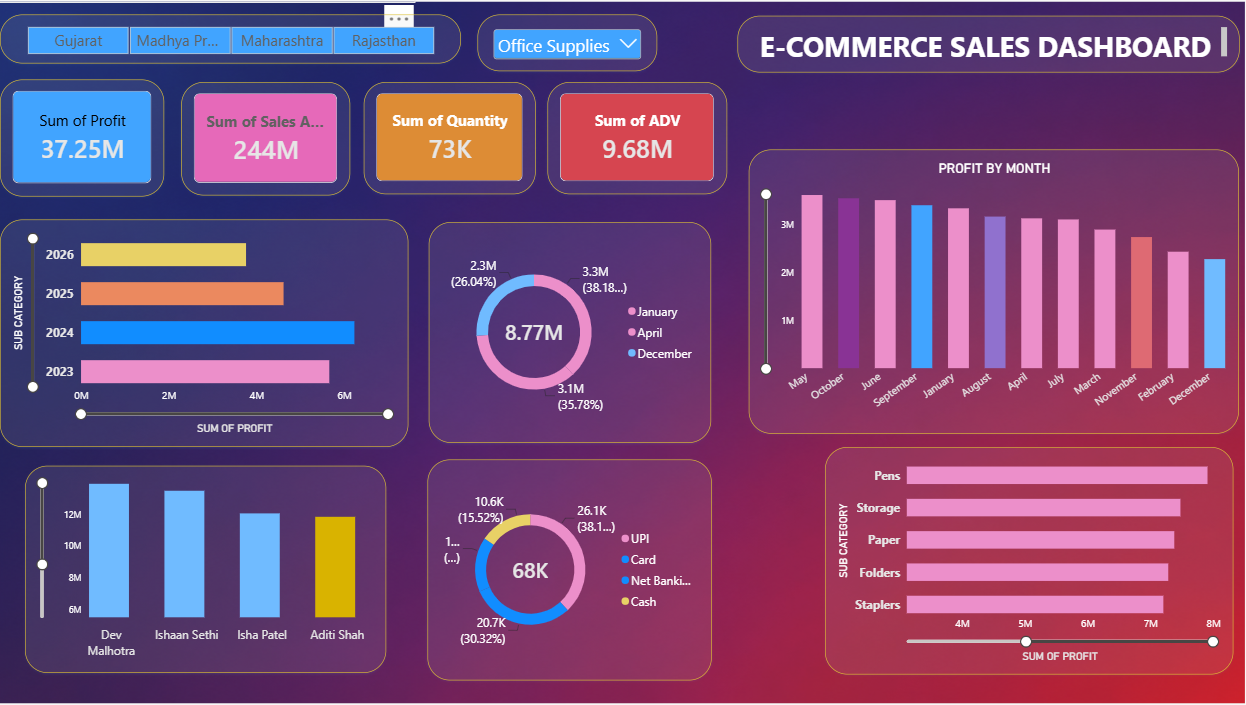

This screenshot's page, from the dashboard's own definition file:
{"tool":"powerbi","page":{"name":"Page 1","canvas":[1920,1080],"ordinal":0},"visuals":[{"type":"textbox","box":[10.3,0,673.1,67.9],"z":0},{"type":"textbox","box":[1114.8,85.1,673.1,76.2],"z":1000},{"type":"columnChart","title":"PROFIT BY MONTH","fields":{"Category":["Orders.Month"],"Y":["Sum(Details.Profit)"]},"box":[1131,264.2,656.6,380.8],"z":2000},{"type":"barChart","fields":{"Category":["Details.Sub-Category"],"Y":["Sum(Details.Profit)"]},"box":[1232.9,662.8,547.5,304.6],"z":3000},{"type":"donutChart","fields":{"Category":["Details.PaymentMode"],"Y":["Sum(Details.Quantity)"]},"box":[699.8,679.2,380.8,296.4],"z":5000},{"type":"cardVisual","fields":{"Data":["Sum(Details.Sales Amount)"]},"box":[370.5,175,226.4,152.3],"z":6000},{"type":"cardVisual","fields":{"Data":["Sum(Details.Profit)"]},"box":[127.6,170.8,220.2,156.4],"z":7000},{"type":"cardVisual","fields":{"Data":["Sum(Details.Quantity)"]},"box":[615.4,175,230.5,150.3],"z":8000},{"type":"cardVisual","fields":{"Data":["Sum(Details.ADV)"]},"box":[860.4,175,240.8,150.3],"z":9000},{"type":"columnChart","title":"PROFIT BY MONTH","fields":{"Category":["Orders.CustomerName"],"Y":["Sum(Details.Amount)"]},"box":[161.1,687.7,483.7,277.9],"z":10000},{"type":"barChart","fields":{"Category":["Orders.Year"],"Y":["Sum(Details.Profit)"]},"box":[127.6,358.1,547.5,304.6],"z":11000},{"type":"slicer","fields":{"Values":["Orders.State"]},"box":[127.6,84.4,617.5,65.9],"z":11001},{"type":"slicer","fields":{"Values":["Details.Category"]},"box":[767.8,84.4,240.8,76],"z":11002},{"type":"donutChart","fields":{"Category":["Orders.Month"],"Y":["Sum(Details.Profit)"]},"box":[701.9,362.3,378.7,296.4],"z":11003}]}

Visuals, with their boxes in screenshot pixels (x1, y1, x2, y2), scaled from the page's 1920x1080 canvas onto the 1246x705 screenshot:
textbox: <region>7, 0, 443, 44</region>
textbox: <region>723, 56, 1160, 105</region>
"PROFIT BY MONTH" columnChart: <region>734, 172, 1160, 421</region>
barChart - Details.Sub-Category x Sum(Details.Profit): <region>800, 433, 1155, 631</region>
donutChart - Details.PaymentMode x Sum(Details.Quantity): <region>454, 443, 701, 637</region>
cardVisual - Sum(Details.Sales Amount): <region>240, 114, 387, 214</region>
cardVisual - Sum(Details.Profit): <region>83, 111, 226, 214</region>
cardVisual - Sum(Details.Quantity): <region>399, 114, 549, 212</region>
cardVisual - Sum(Details.ADV): <region>558, 114, 715, 212</region>
"PROFIT BY MONTH" columnChart: <region>105, 449, 418, 630</region>
barChart - Orders.Year x Sum(Details.Profit): <region>83, 234, 438, 433</region>
slicer - Orders.State: <region>83, 55, 484, 98</region>
slicer - Details.Category: <region>498, 55, 655, 105</region>
donutChart - Orders.Month x Sum(Details.Profit): <region>456, 237, 701, 430</region>
